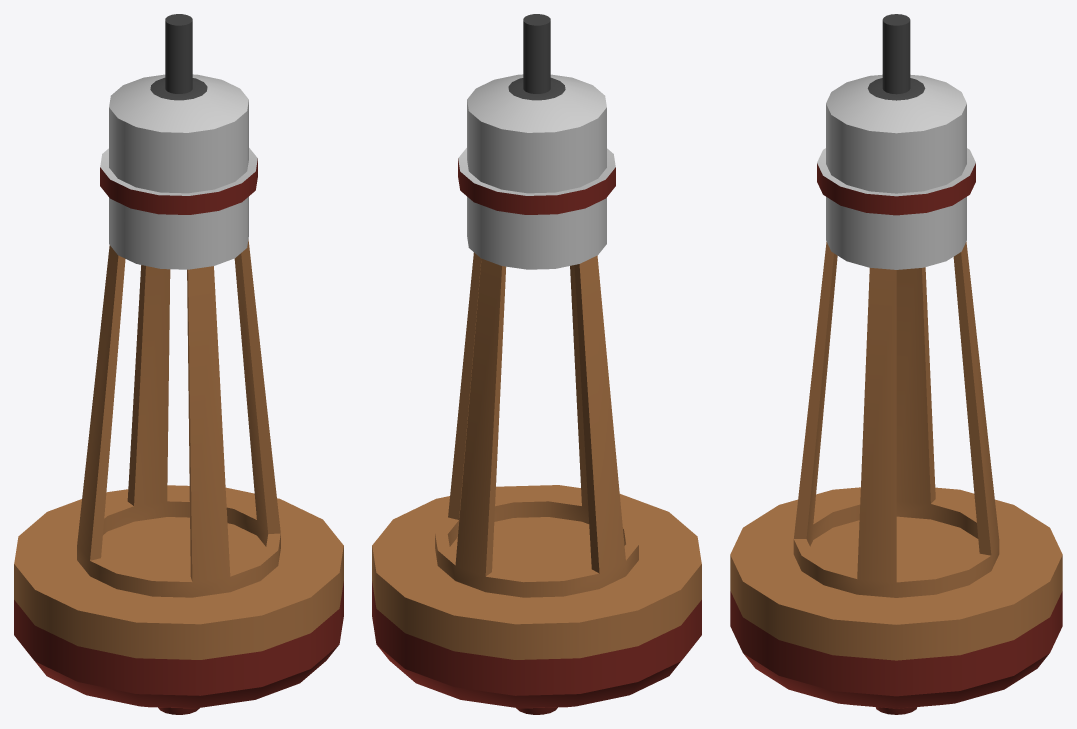
The model's file is buoy.fbx.
The picture shows the model from 3 angles, left to right: view 1: azimuth 30°, elevation 25°; view 2: azimuth 150°, elevation 25°; view 3: azimuth 270°, elevation 25°; orthographic projection.
Parts seen in each view (by area): view 1: buoy 1; view 2: buoy 1; view 3: buoy 1.
Part boxes in pixels (x1,y1,x2,y2): buoy 1: (14, 14, 343, 714); buoy 1: (372, 14, 701, 714); buoy 1: (730, 14, 1062, 714).
Bounding box in the file's own units: 3.55 × 8.09 × 3.55.
